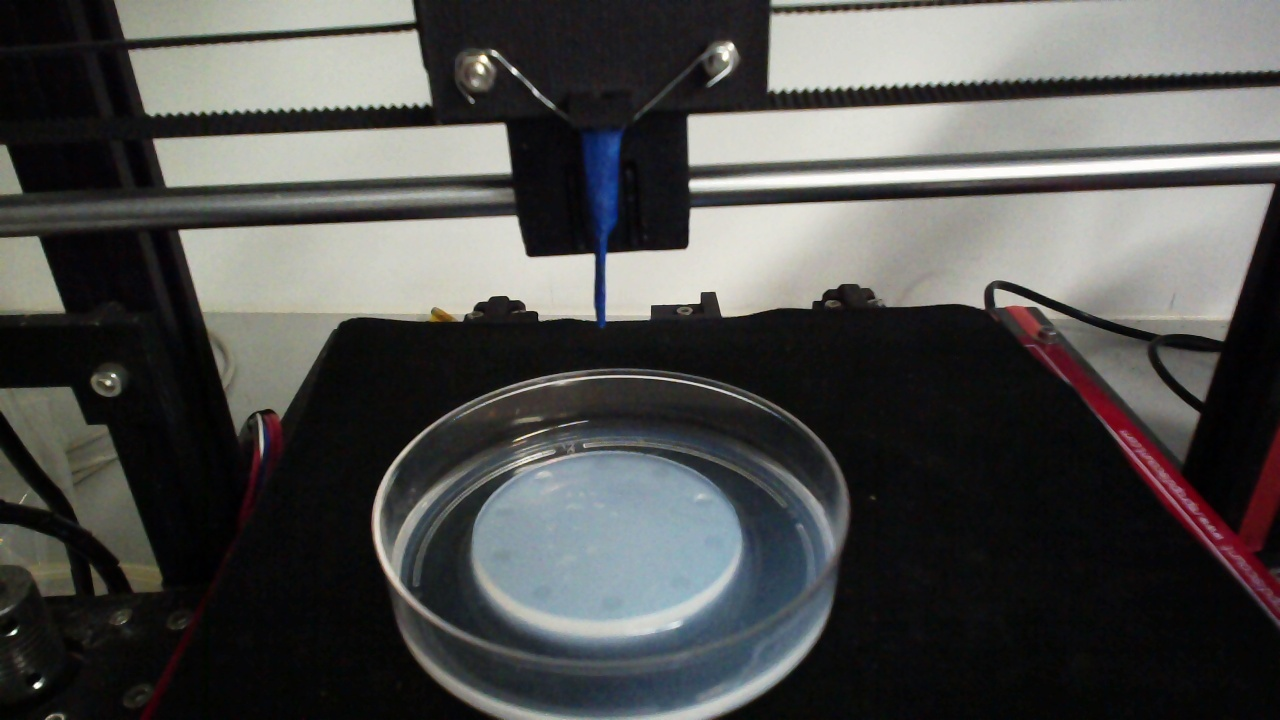groove: (669, 574, 692, 592), (600, 594, 623, 611), (703, 533, 724, 551), (531, 584, 551, 601), (491, 549, 513, 564), (532, 469, 552, 485), (493, 505, 515, 519), (693, 494, 714, 508), (651, 466, 671, 480), (591, 459, 612, 471)
needle: (585, 132, 619, 326)
